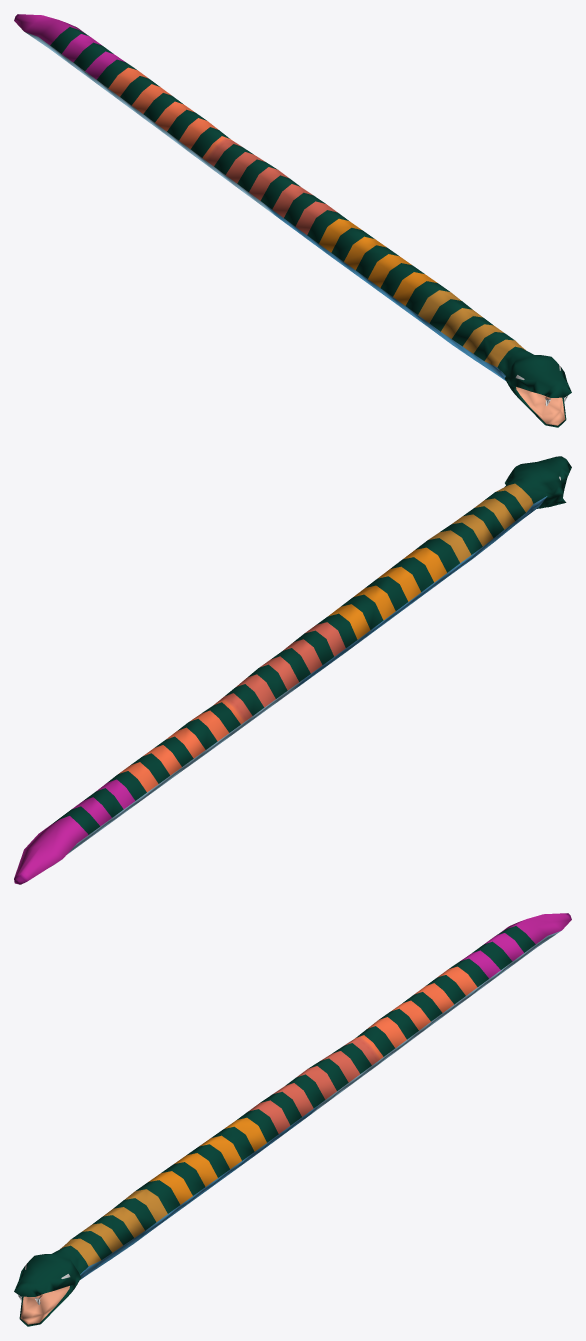
The model's file is model-snake.glb.
3 renders of one model, top to bottom at view 1: azimuth 30°, elevation 25°; view 2: azimuth 150°, elevation 25°; view 3: azimuth 330°, elevation 25°, orthographic.
Parts seen in each view (by area): view 1: SnakeMesh; view 2: SnakeMesh; view 3: SnakeMesh.
Boxes of the visible parts, x1,y1,x2,y2 form: SnakeMesh: (14, 14, 571, 427); SnakeMesh: (14, 456, 571, 884); SnakeMesh: (14, 913, 571, 1326).
Size of the model in its own units: 0.4996 by 0.4825 by 8.92.
Materials: 1 (1 with a texture image).
